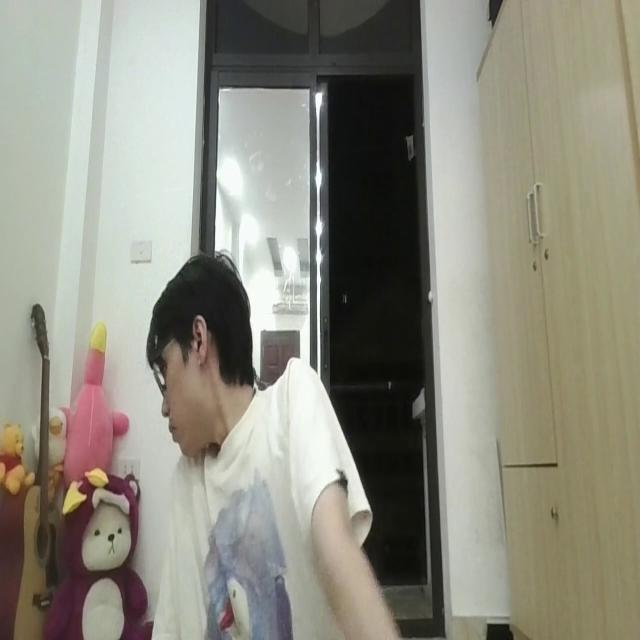student: (138, 248, 400, 640)
